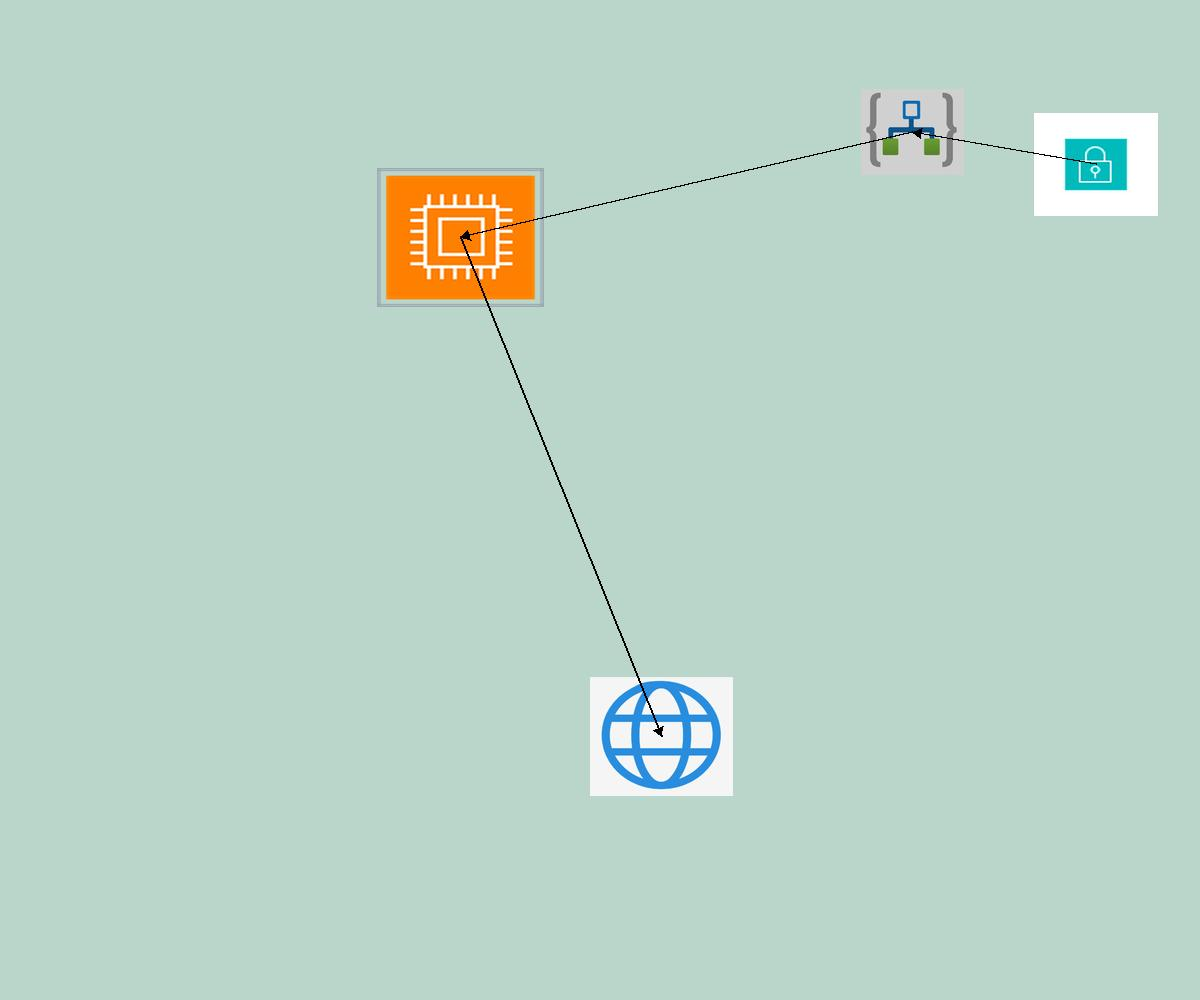AWS-Category_Compute: (377, 168, 544, 307)
AWS-Private-subnet: (1034, 113, 1158, 216)
Azure_http: (590, 677, 733, 796)
Azure_integration-204-Logic-Apps: (861, 89, 964, 175)
